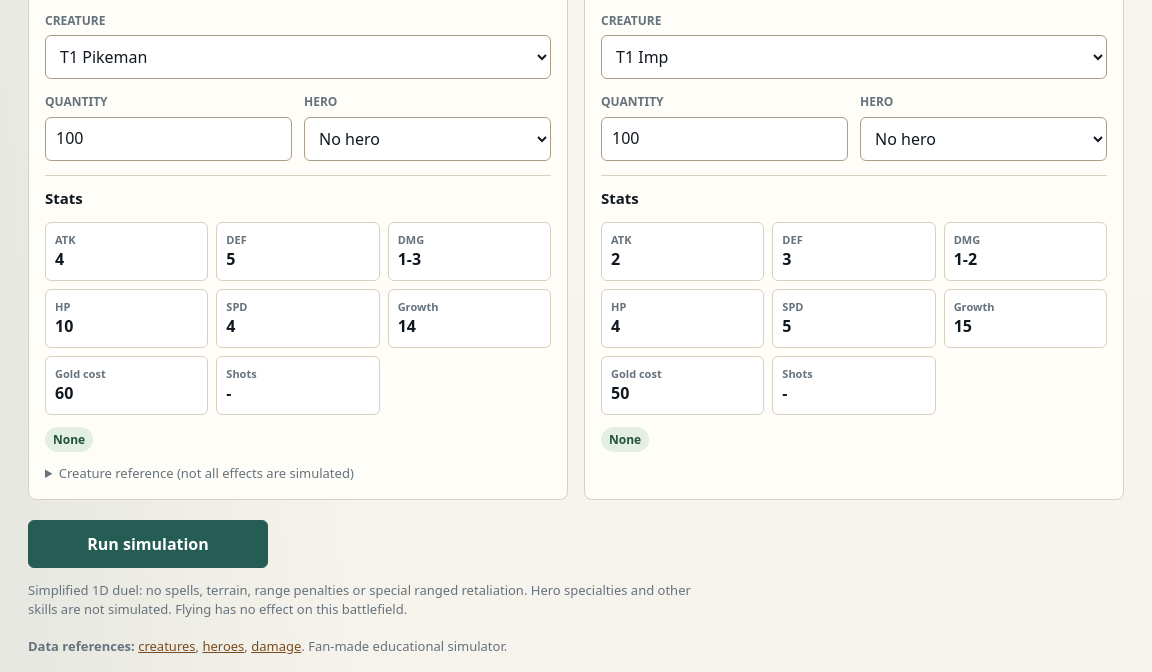
App › runs a batch simulation and shows win-rate results
The width and height of the screenshot is (1152, 672).
(page scrolled)
Click the button "Run simulation".
click(148, 544)  # box [28,520,268,568]
(page scrolled)
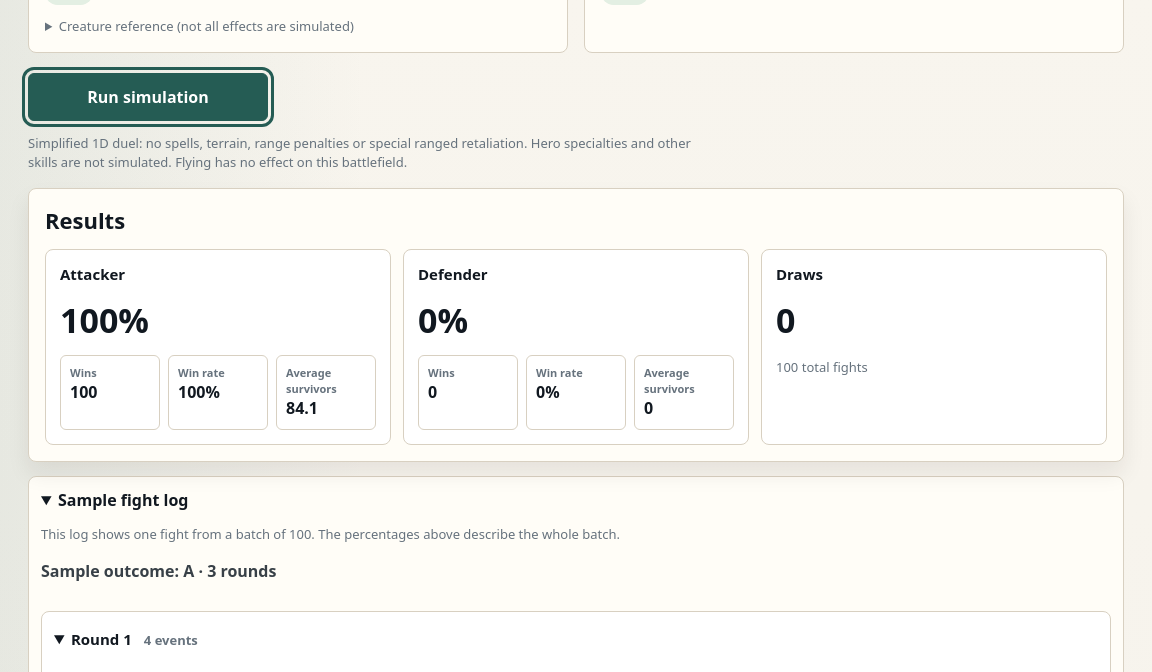
Now the 1st text "Win rate" is shown, box [178,365,225,380]
Now the 1st text "Average survivors" is shown, box [286,365,337,396]
Now the element with test id "sticky-results" is shown, box [28,188,1124,462]
